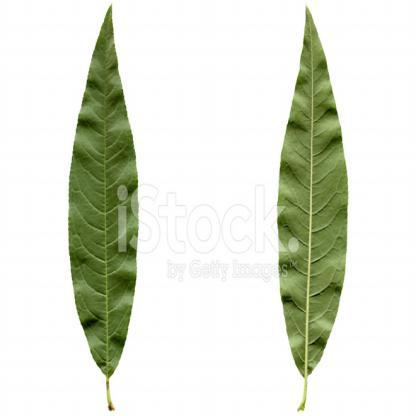Peach leaf: (256, 8, 354, 415), (66, 2, 146, 415)
